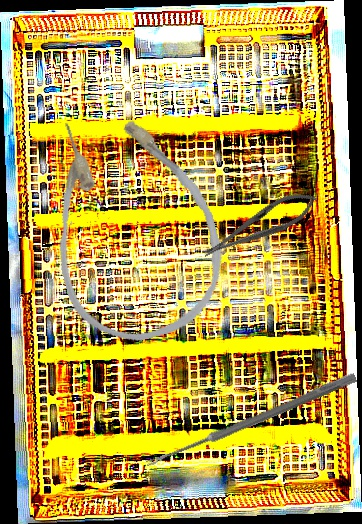Cannula: (24, 92, 240, 356)
Needle Holder: (196, 183, 323, 268)
Surgical Spoon: (144, 371, 358, 470)
